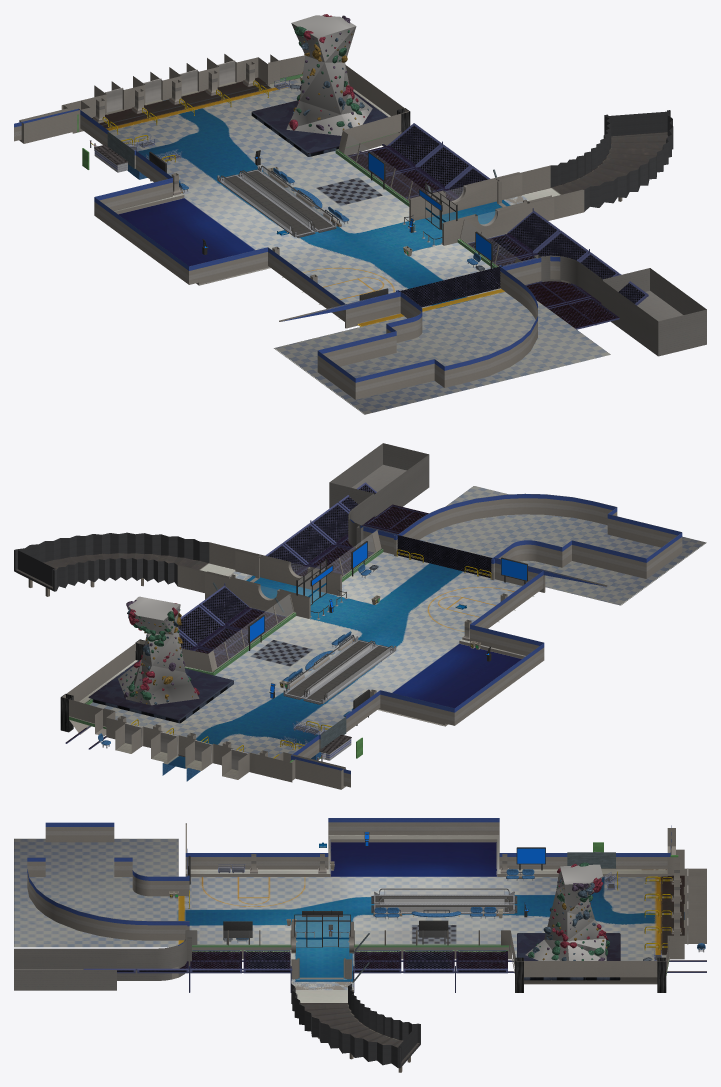
3 renders of one model, top to bottom at view 1: azimuth 30°, elevation 25°; view 2: azimuth 150°, elevation 25°; view 3: azimuth 270°, elevation 25°, orthographic. The views are drawn at different scales.
Parts seen in each view (by area): view 1: Airport; view 2: Airport; view 3: Airport.
Boxes of the visible parts, x1=… form: Airport: x1=14, y1=14, x2=706, y2=414; Airport: x1=14, y1=443, x2=706, y2=789; Airport: x1=14, y1=818, x2=706, y2=1072.
Bounding box in the file's own units: 77.6 × 15.52 × 98.81.
62 materials, 52 textured.
